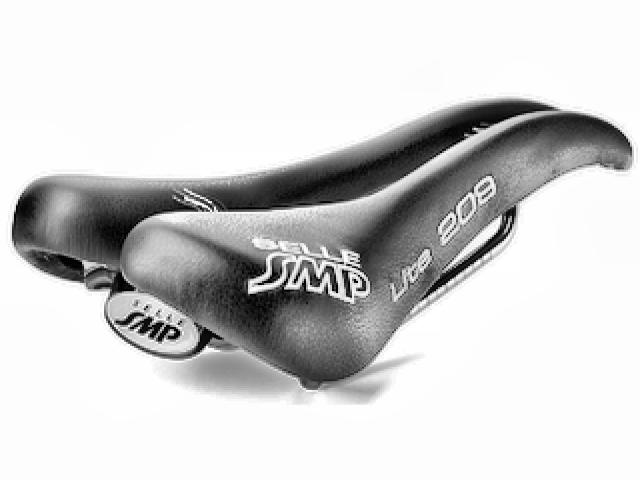saddle: (9, 90, 636, 393)
